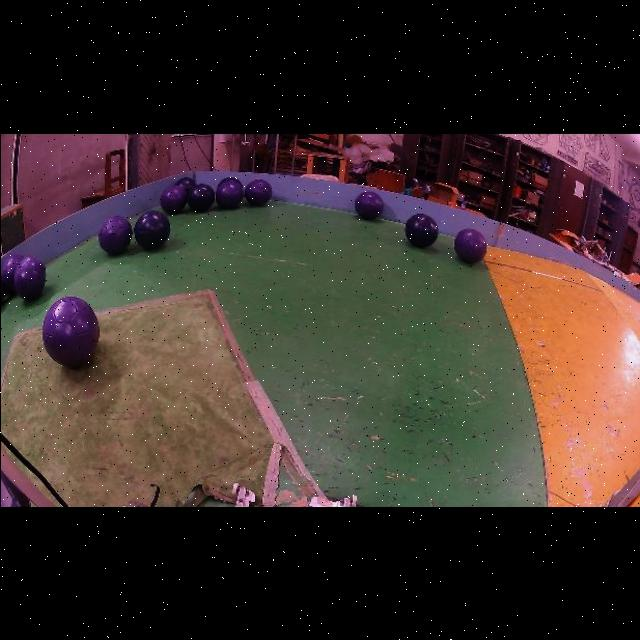B: (133, 209, 169, 248), (404, 212, 438, 246), (186, 183, 215, 210), (175, 176, 195, 190)
P: (41, 296, 99, 366), (14, 255, 45, 299), (98, 214, 132, 253), (454, 227, 486, 262), (0, 253, 23, 292), (354, 189, 384, 218), (215, 179, 243, 207), (243, 177, 272, 204), (159, 184, 186, 212)
